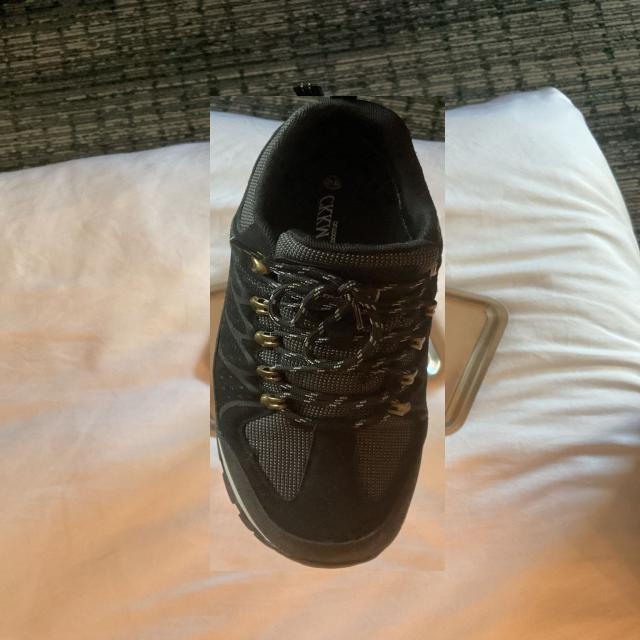shoe: (210, 96, 445, 571)
